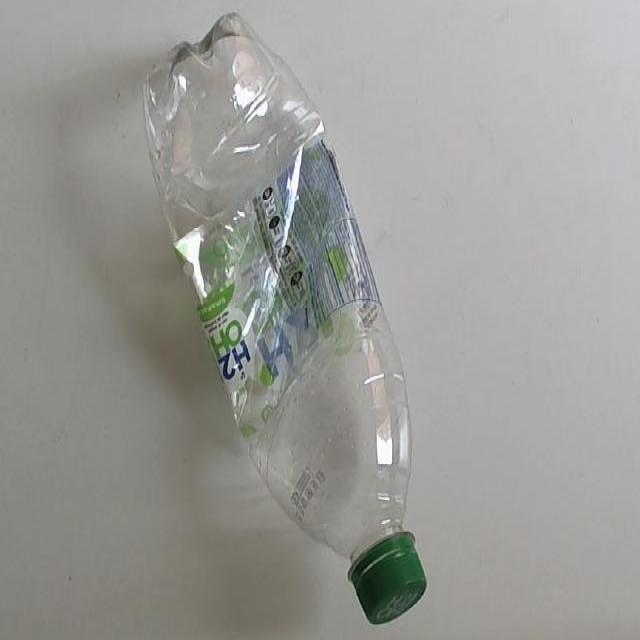defect: (140, 6, 430, 630)
